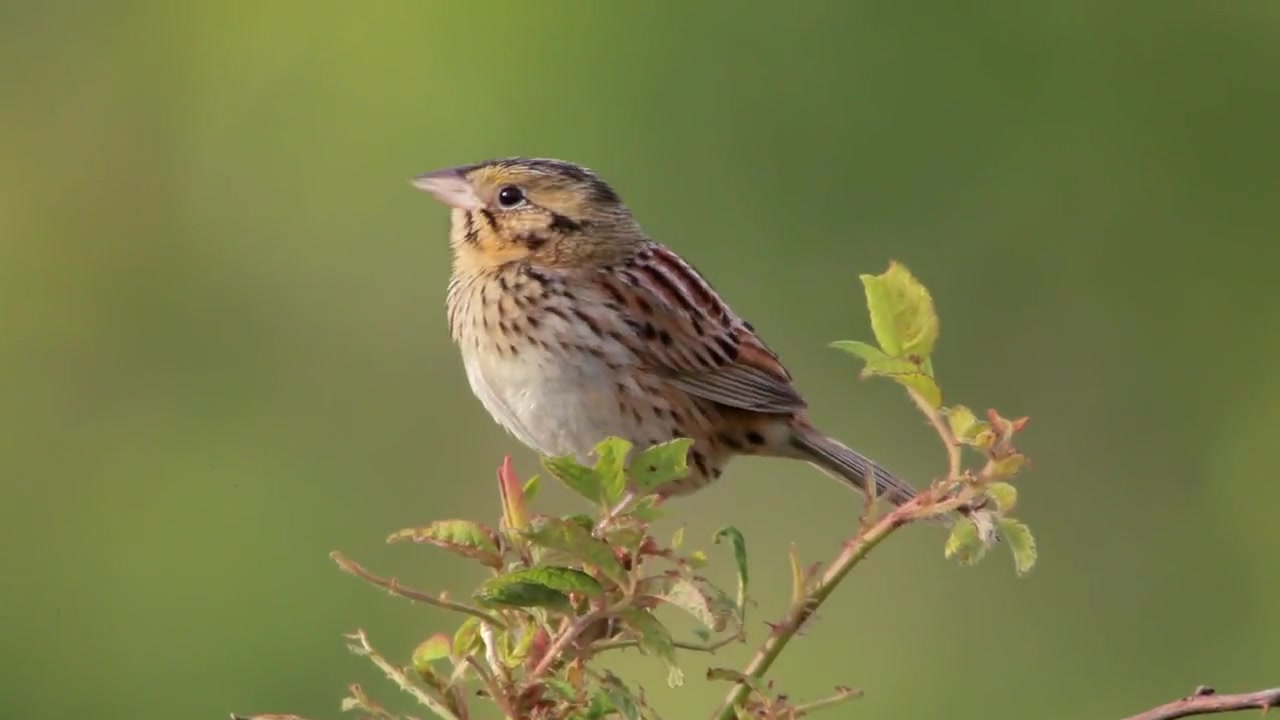bird: (410, 155, 943, 523)
